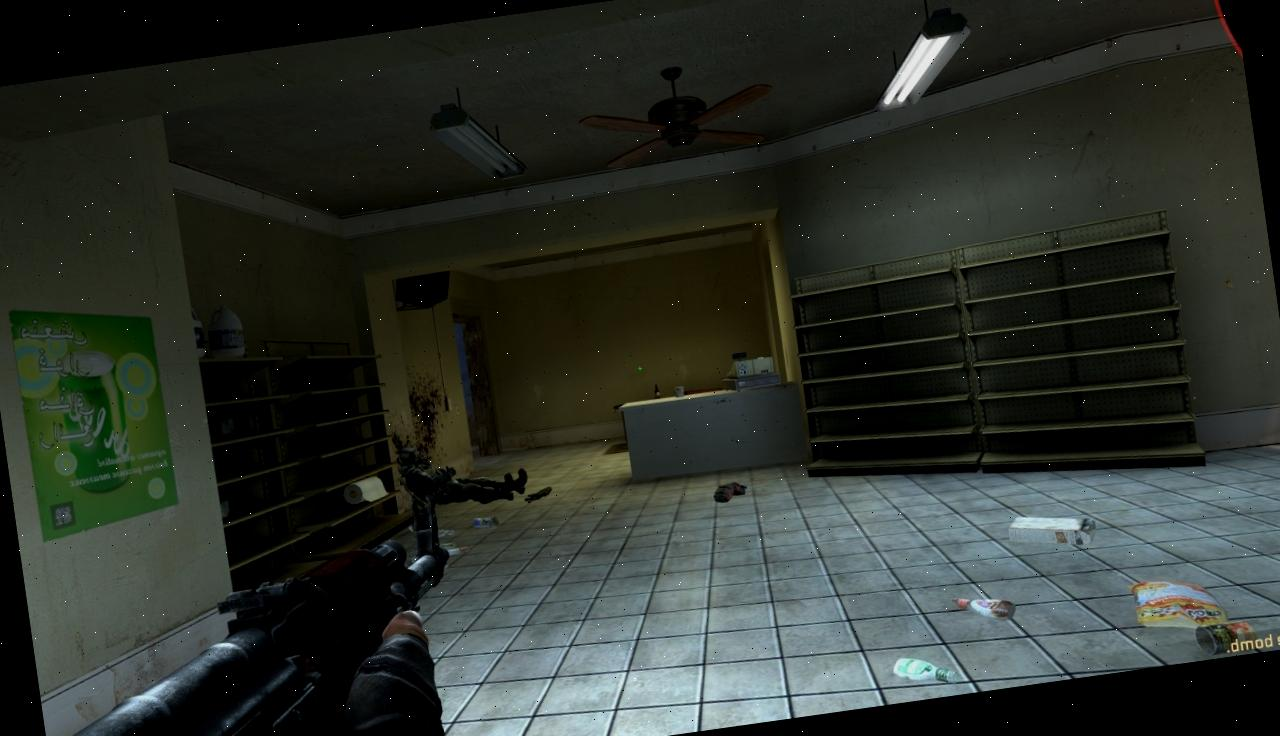rifle: (18, 486, 475, 736)
